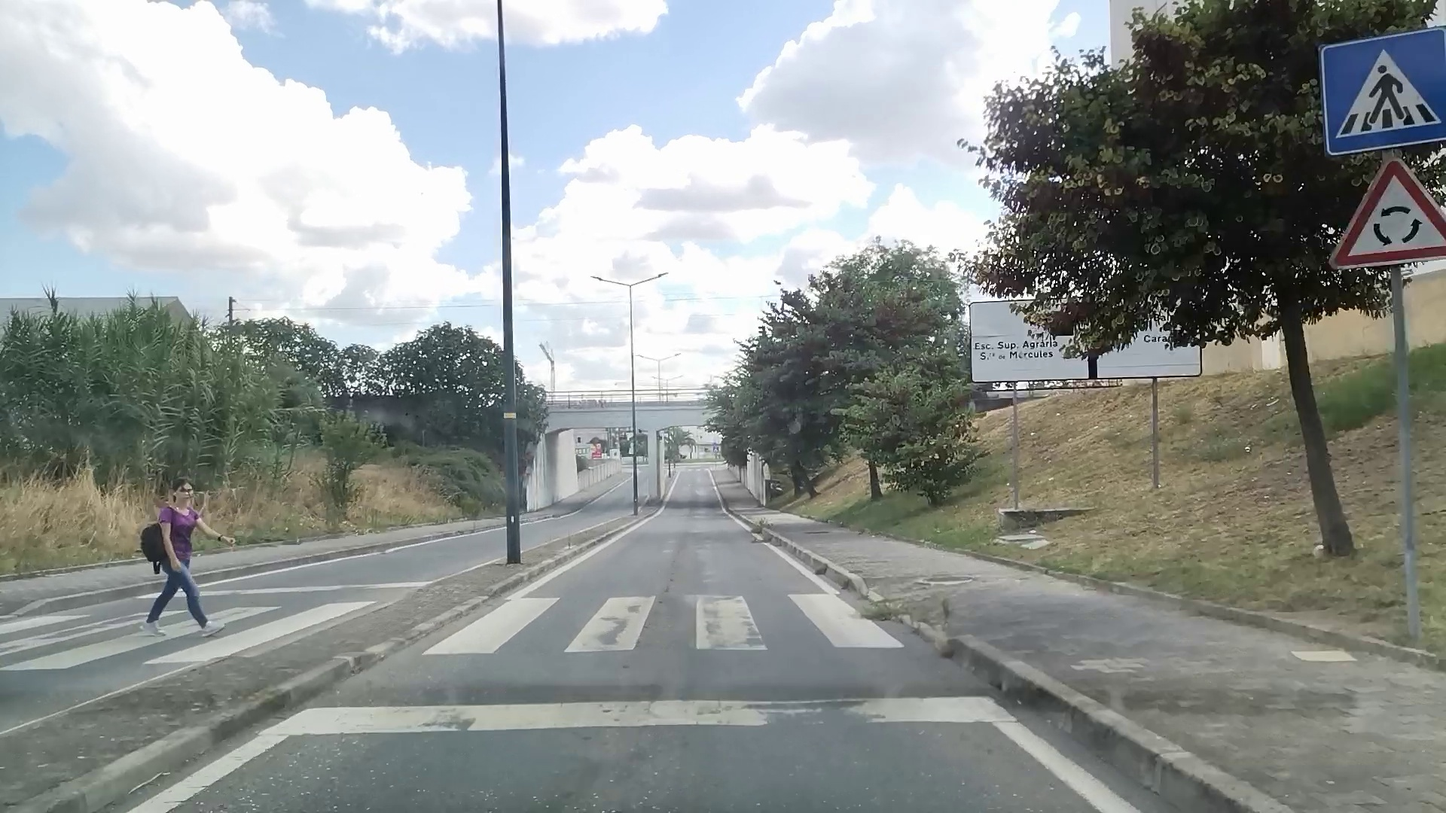Stairs: (423, 593, 904, 656), (0, 605, 369, 671)
